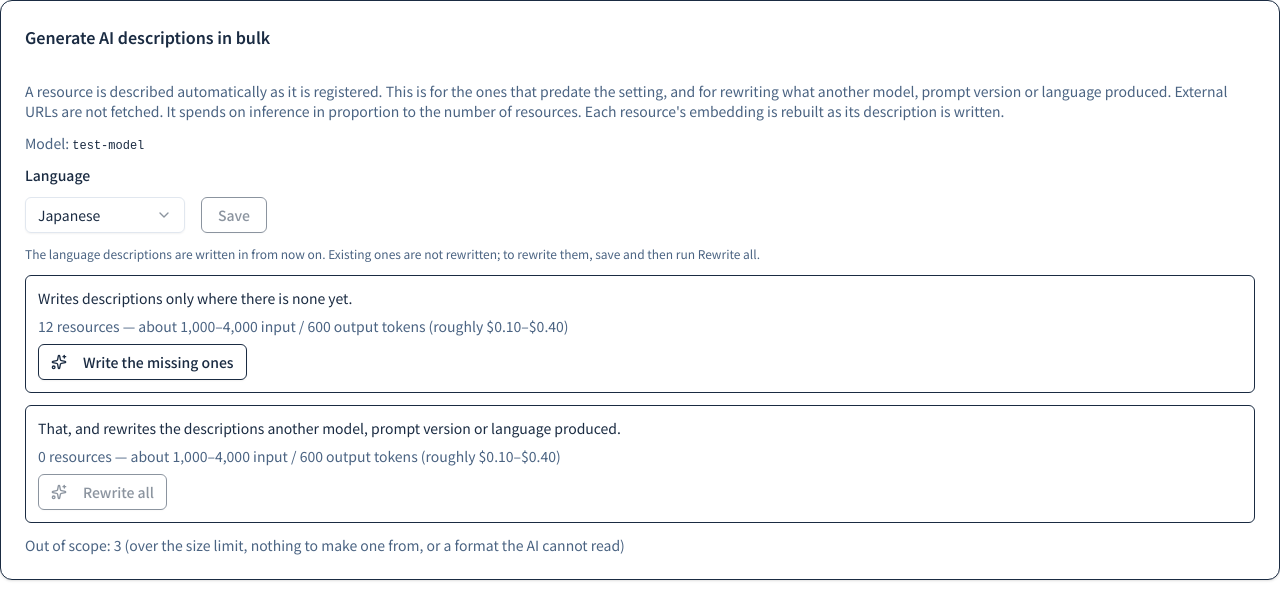
SummaryGenerationCard › saves the language, then counts again what it leaves to rewrite
Expected: the button "Save" is disabled, [201, 197, 267, 233]
Press Enter in the dropdown named "Language", box [25, 197, 185, 233]
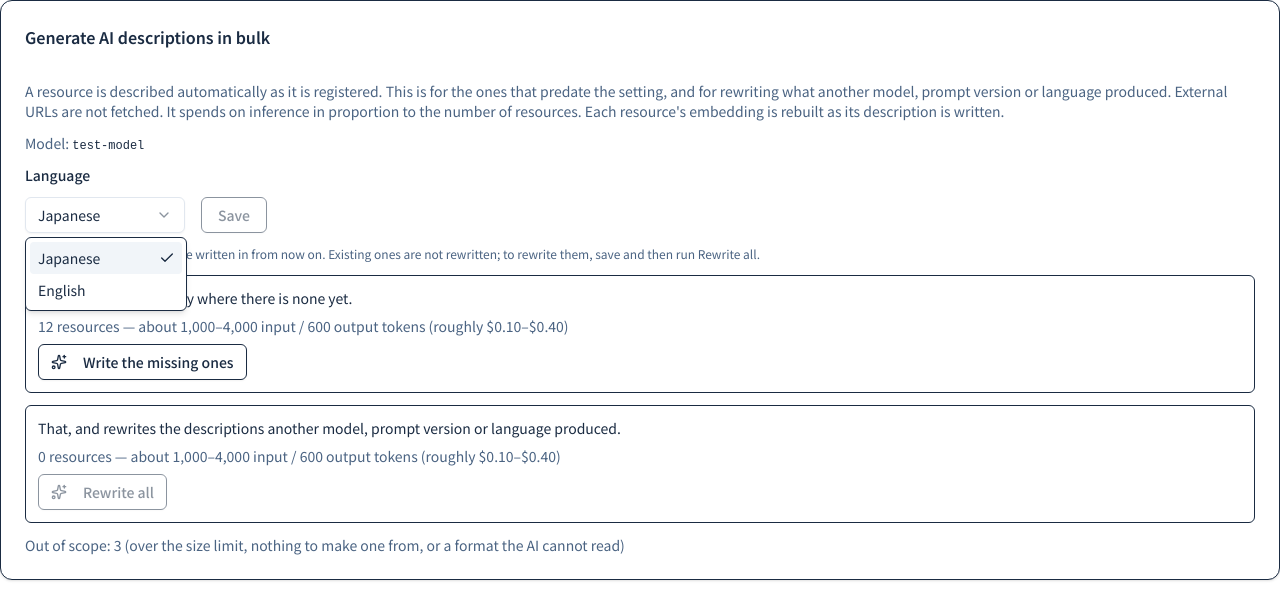
Click the option "English". click: (62, 290)
box: [38, 280, 86, 300]
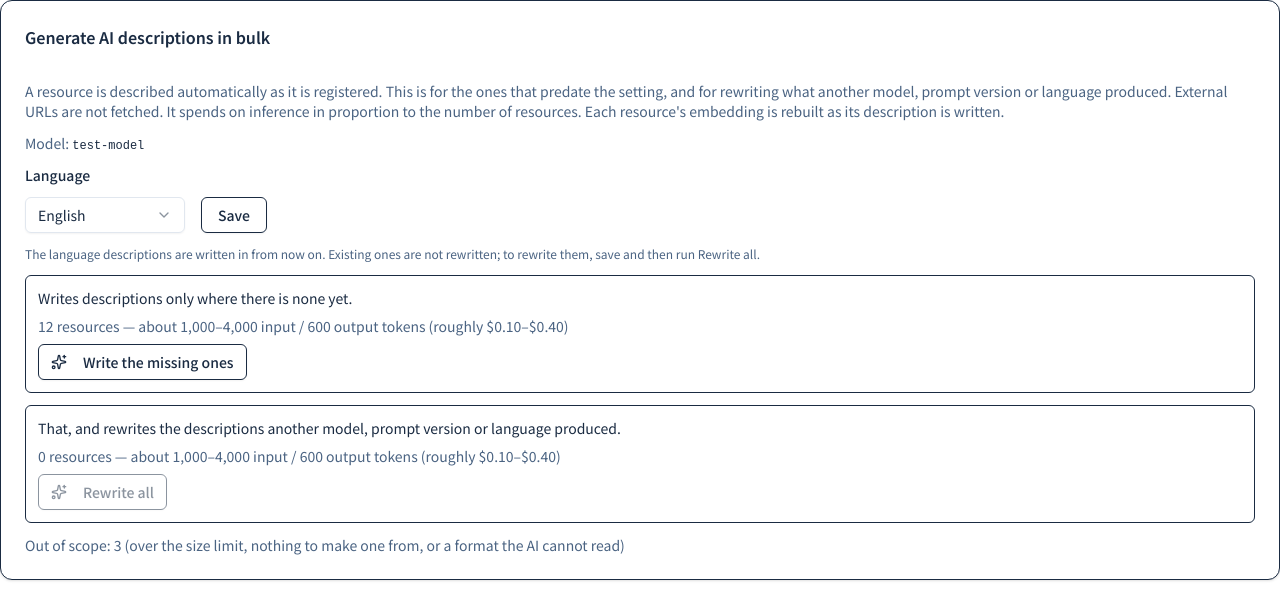
Click the button "Save". click: (234, 215)
box: [201, 197, 267, 233]
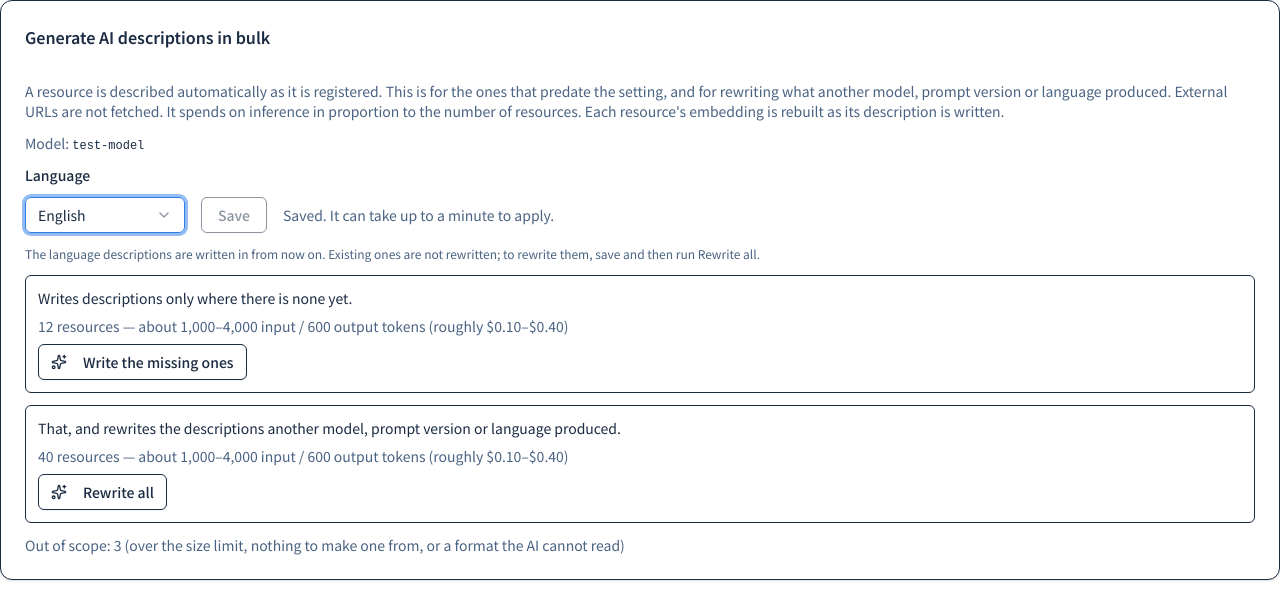
Result: the dropdown named "Language" reads "English" at [25, 197, 185, 233]
Result: the message shows "Saved" at [283, 205, 554, 225]
Result: the button "Rewrite all" is enabled at [38, 474, 167, 510]
